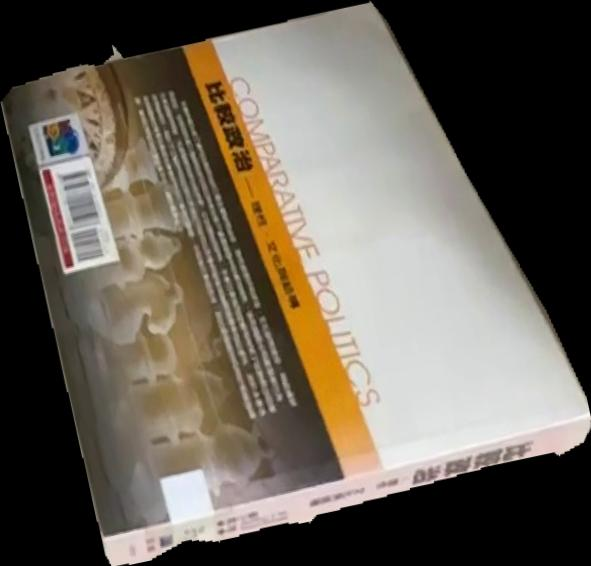flat: (1, 1, 591, 566)
